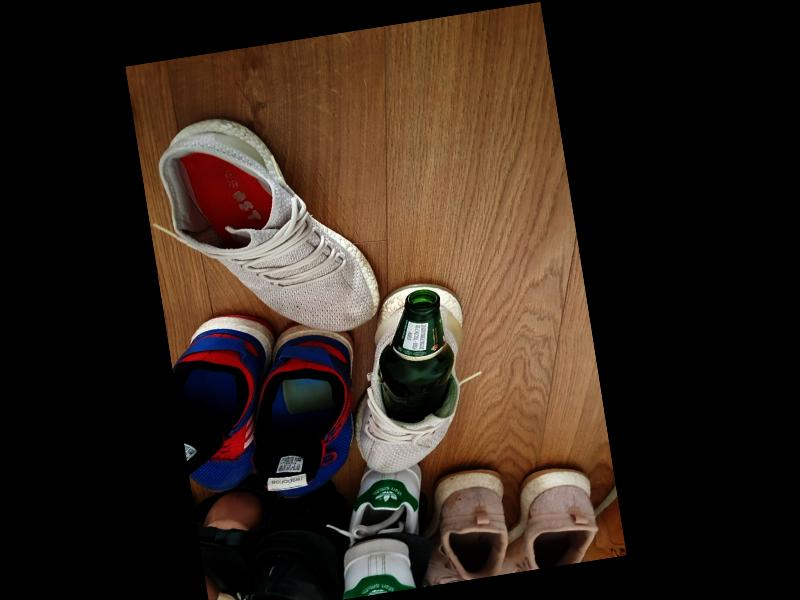Beer: (365, 285, 462, 425)
